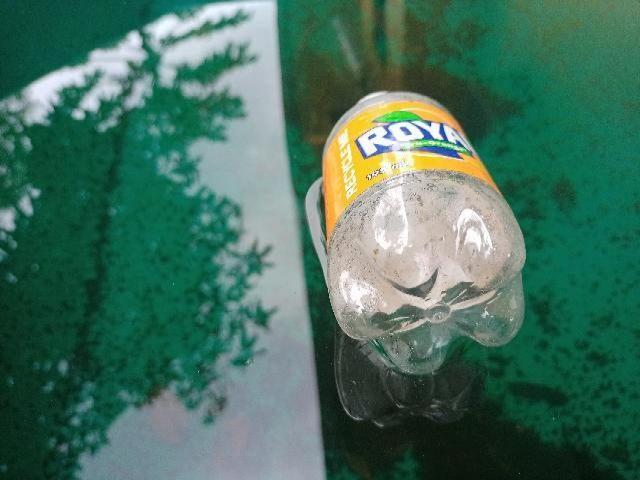Bottle: (311, 81, 533, 380)
